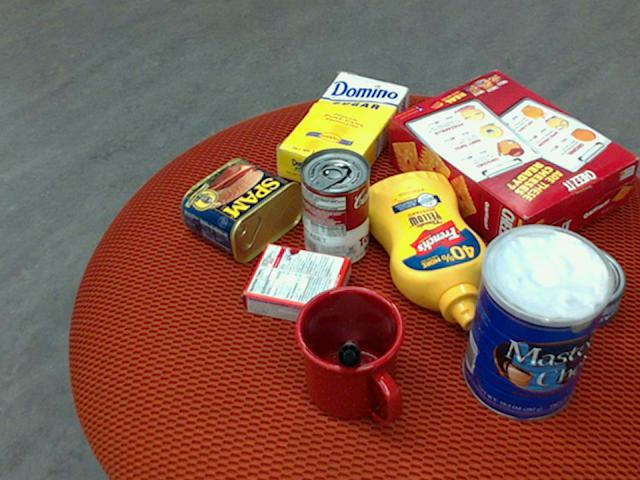cracker_box: (387, 68, 637, 261)
gelatin_box: (238, 242, 346, 331)
large_marker: (335, 340, 359, 368)
master_chef_can: (460, 226, 614, 422)
mug: (290, 286, 402, 424)
mustard_bottle: (360, 170, 488, 331)
potted_meat_can: (179, 156, 303, 263)
sugar_box: (275, 71, 407, 194)
tomato_soup_can: (298, 145, 369, 266)
tuna_fish_can: (529, 241, 625, 329)
